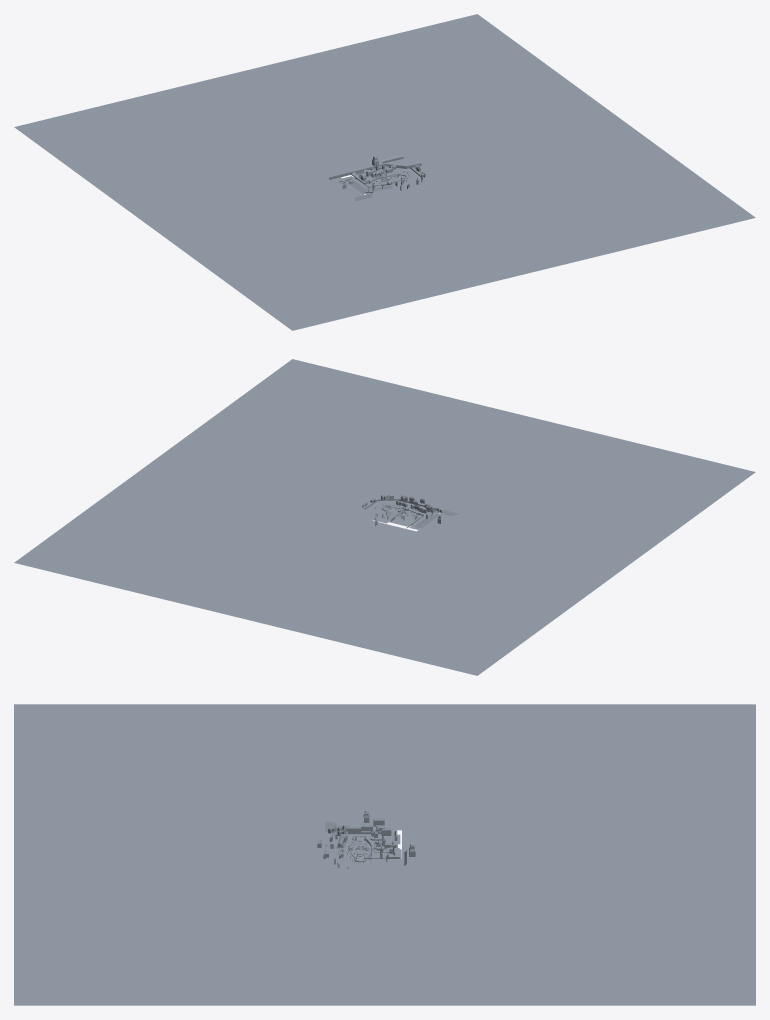
Rendered from gltf__Models__map__Village__playGround__playGround_mergedScene_oneMesh.glb.
3 views of the same model, one above another, from view 1: azimuth 30°, elevation 25°; view 2: azimuth 150°, elevation 25°; view 3: azimuth 270°, elevation 25° (orthographic). The views are drawn at different scales.
Parts seen in each view (by area): view 1: playGround_mergedScene_oneMesh; view 2: playGround_mergedScene_oneMesh; view 3: playGround_mergedScene_oneMesh.
Boxes of the visible parts, left/top/right/bottom form: playGround_mergedScene_oneMesh: left=14, top=14, right=755, bottom=330; playGround_mergedScene_oneMesh: left=14, top=359, right=755, bottom=675; playGround_mergedScene_oneMesh: left=14, top=704, right=755, bottom=1005.
Size of the model in its own units: 400 by 9.22 by 416.
Materials: 11 (11 with a texture image).
